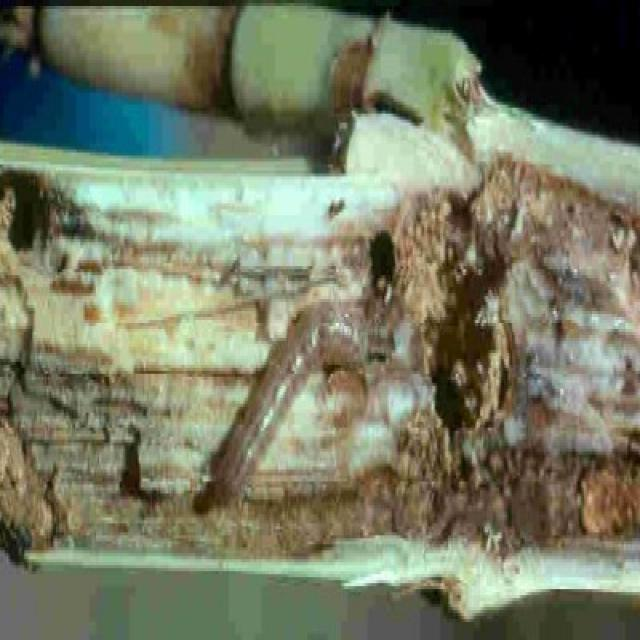cornborer-Larva-: (211, 293, 370, 520)
